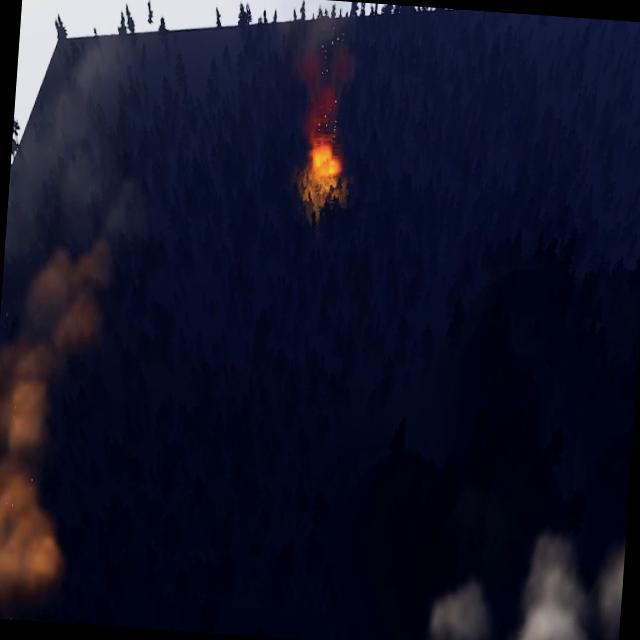fire: (308, 144, 343, 182)
smoke: (0, 21, 150, 619), (420, 515, 626, 640), (288, 36, 352, 140)
